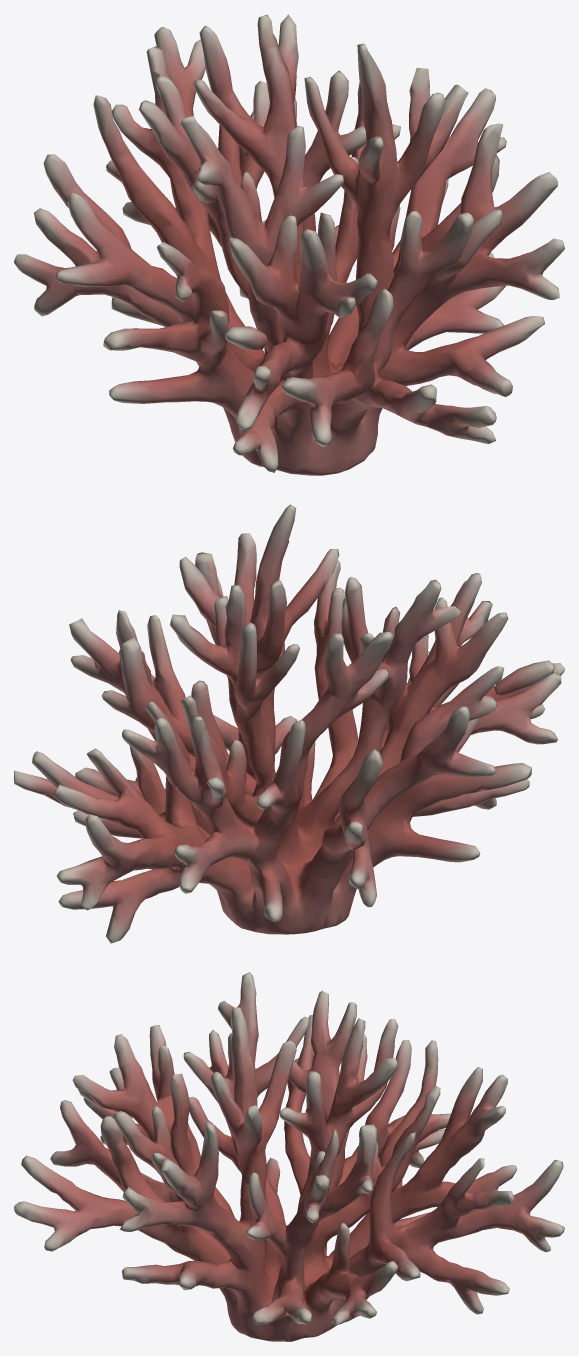
Rendered from staghorn.glb.
3 views of the same model, one above another, from view 1: azimuth 30°, elevation 25°; view 2: azimuth 150°, elevation 25°; view 3: azimuth 270°, elevation 25° (orthographic). The views are drawn at different scales.
Visible parts, largest first — view 1: tripo_node_4ff63cd1-cf8e-45ec-af18-8b2d0f0a6263; view 2: tripo_node_4ff63cd1-cf8e-45ec-af18-8b2d0f0a6263; view 3: tripo_node_4ff63cd1-cf8e-45ec-af18-8b2d0f0a6263.
Boxes of the visible parts, x1=… form: tripo_node_4ff63cd1-cf8e-45ec-af18-8b2d0f0a6263: x1=14, y1=14, x2=564, y2=475; tripo_node_4ff63cd1-cf8e-45ec-af18-8b2d0f0a6263: x1=14, y1=504, x2=564, y2=943; tripo_node_4ff63cd1-cf8e-45ec-af18-8b2d0f0a6263: x1=14, y1=972, x2=564, y2=1341.
Bounding box in the file's own units: 0.7911 × 0.6582 × 1.
1 material, 1 textured.
